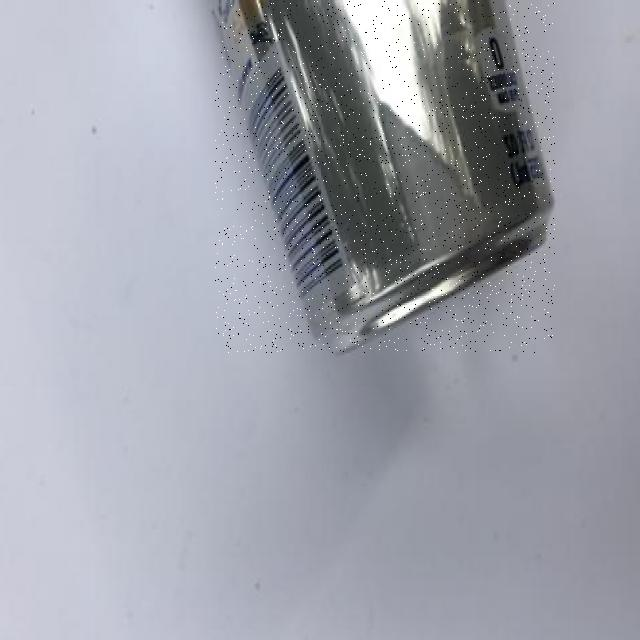metal: (215, 1, 555, 352)
